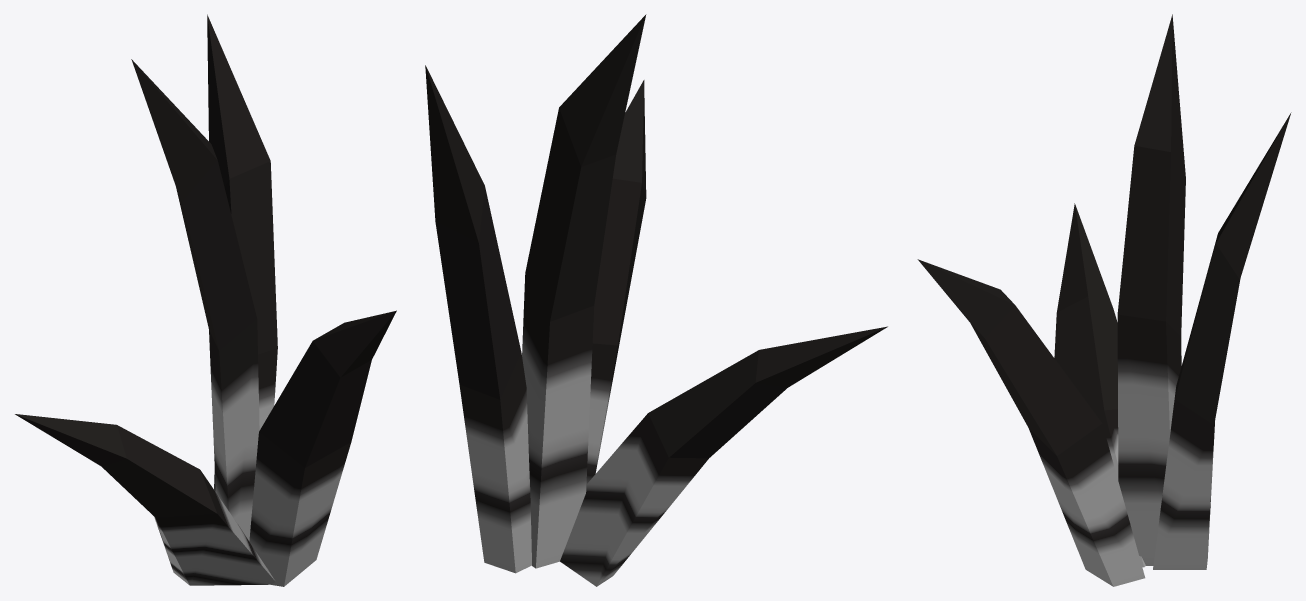
The model's file is SM_Gen_Env_Grass_03.glb.
3 views of the same model, side by side, from view 1: azimuth 30°, elevation 25°; view 2: azimuth 150°, elevation 25°; view 3: azimuth 270°, elevation 25° (orthographic). The views are drawn at different scales.
Parts seen in each view (by area): view 1: SM_Gen_Env_Grass_03; view 2: SM_Gen_Env_Grass_03; view 3: SM_Gen_Env_Grass_03.
Part boxes in pixels (bbox=[...]): SM_Gen_Env_Grass_03: bbox=[15, 14, 396, 586]; SM_Gen_Env_Grass_03: bbox=[425, 14, 887, 586]; SM_Gen_Env_Grass_03: bbox=[917, 14, 1291, 586].
Bounding box in the file's own units: 0.4705 × 0.7191 × 0.4782.
Materials: 1 (1 with a texture image).
